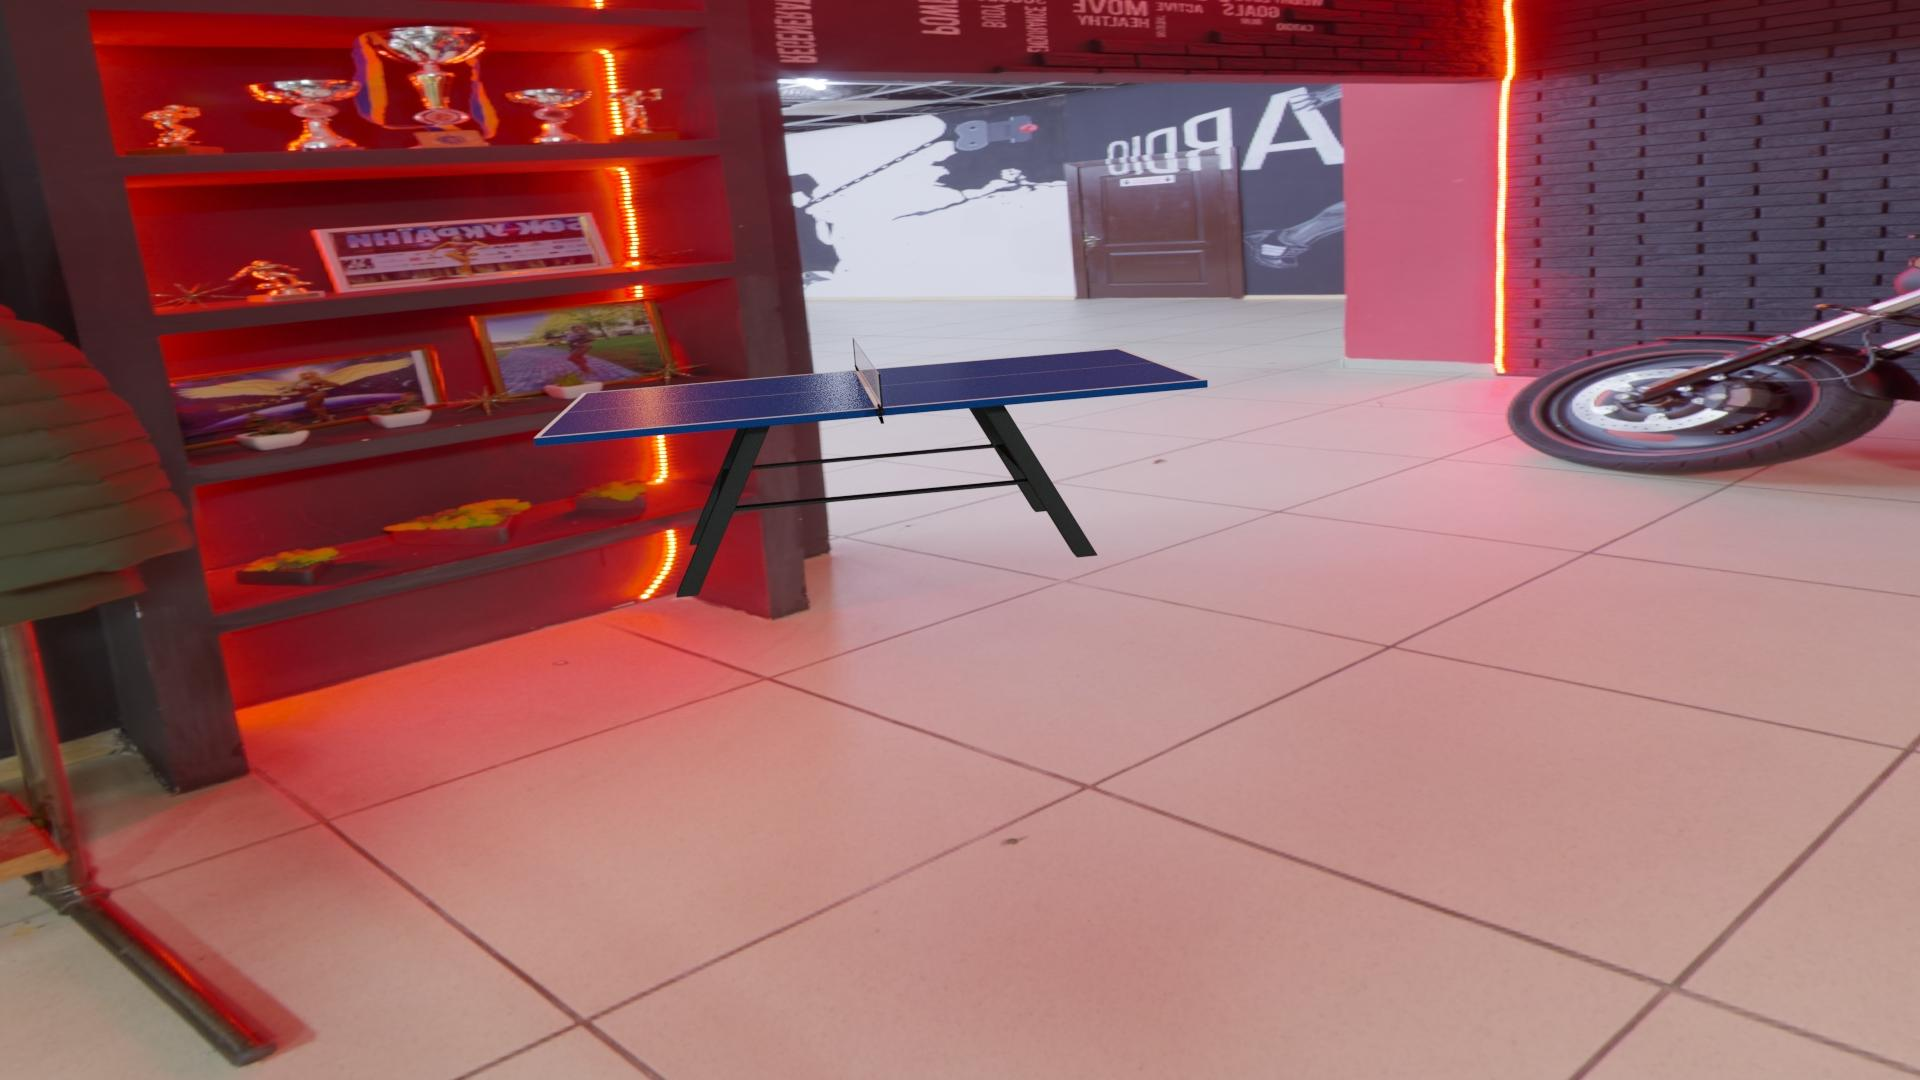table: (540, 349, 1202, 437)
